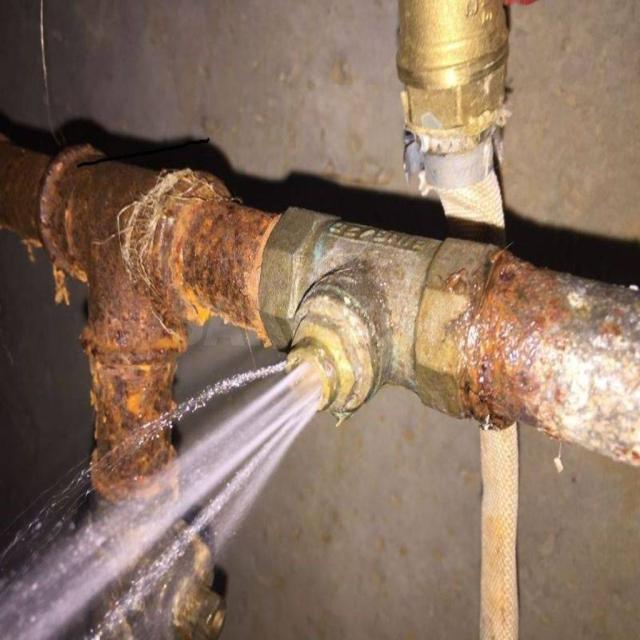leak: (0, 363, 321, 638)
